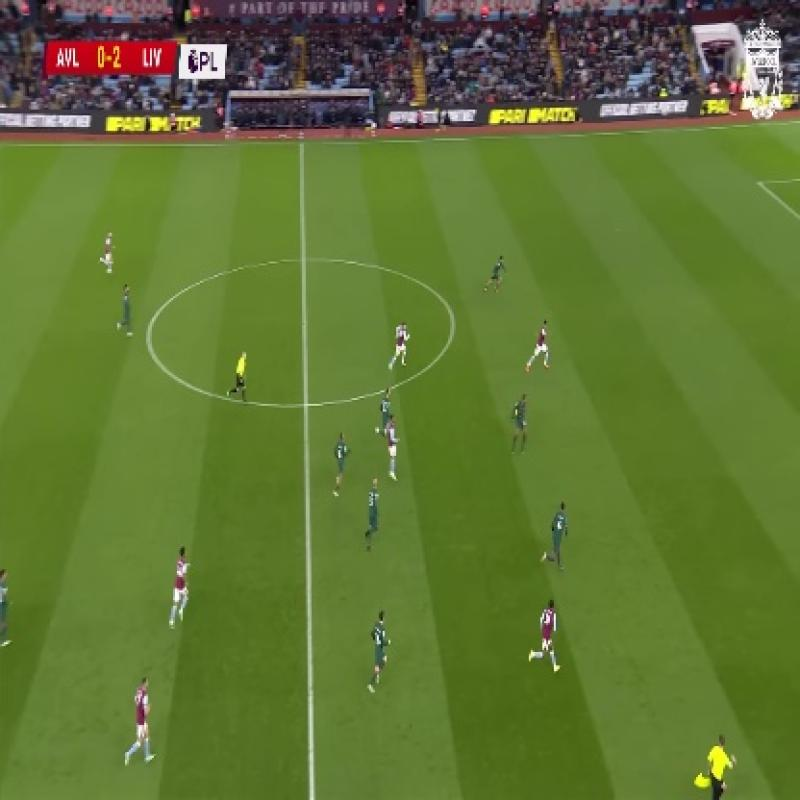13: (292, 127, 312, 154)
14: (288, 242, 318, 275)
15: (290, 386, 318, 422)
9: (748, 169, 769, 196)
c: (128, 318, 166, 356), (441, 310, 469, 334)
